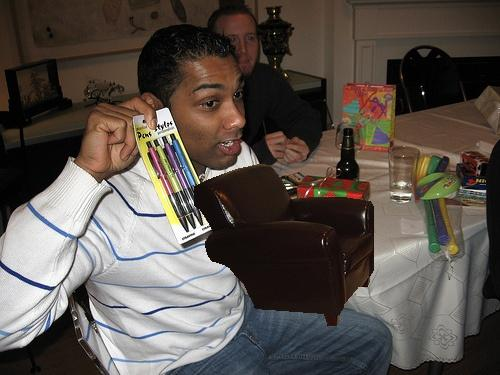tampered: (195, 165, 374, 326)
